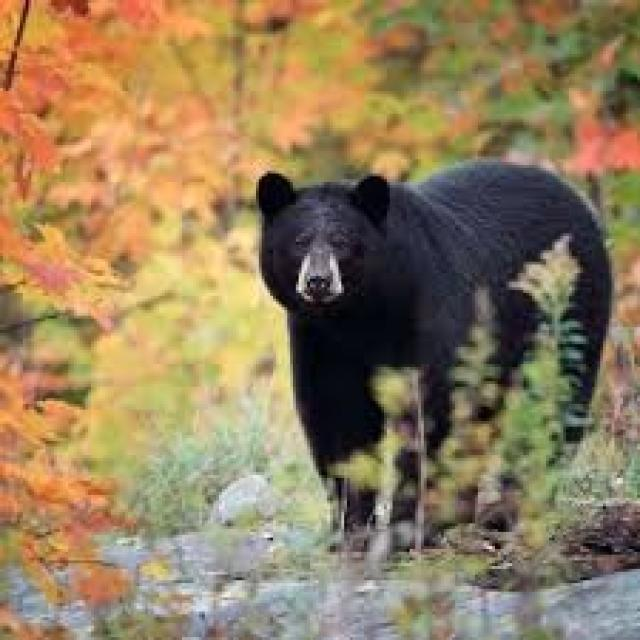not_pig: (253, 157, 614, 546)
